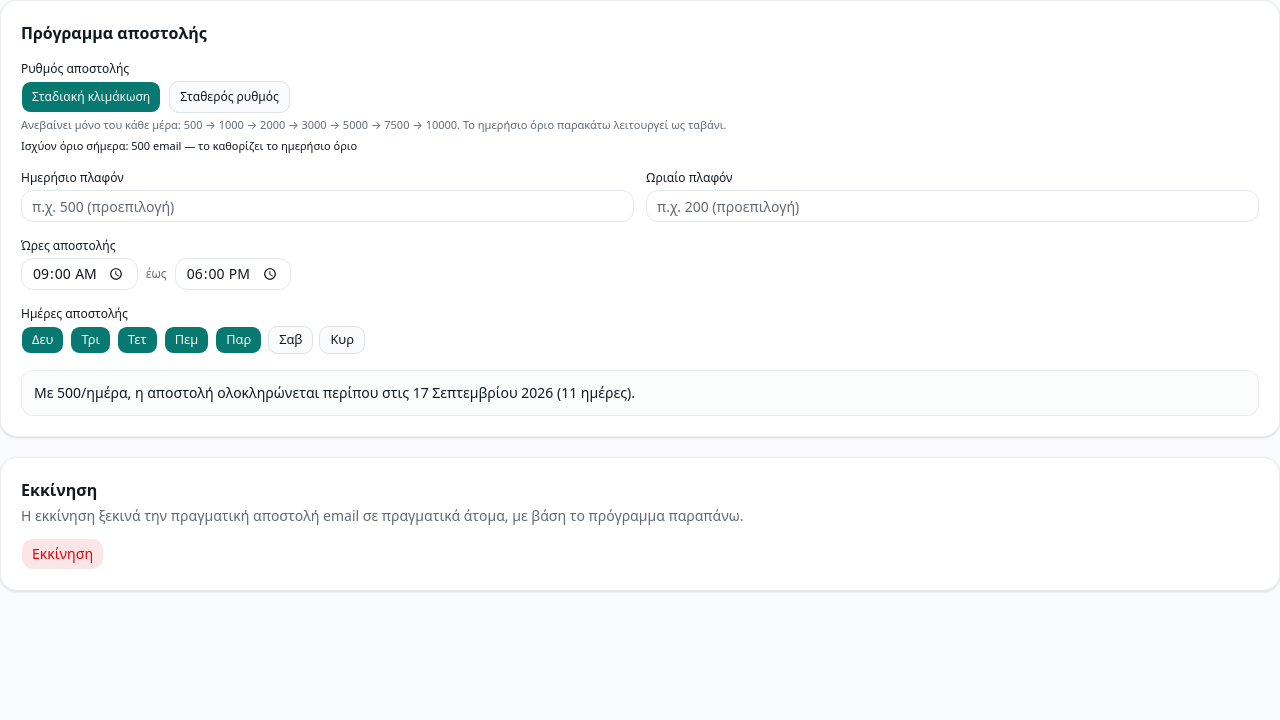
Test: StepSchedule › renders a translated, actionable explanation for the most common refusal (invalid_state)
Click the button "Εκκίνηση": (62, 554) x1=21 y1=538 x2=104 y2=570
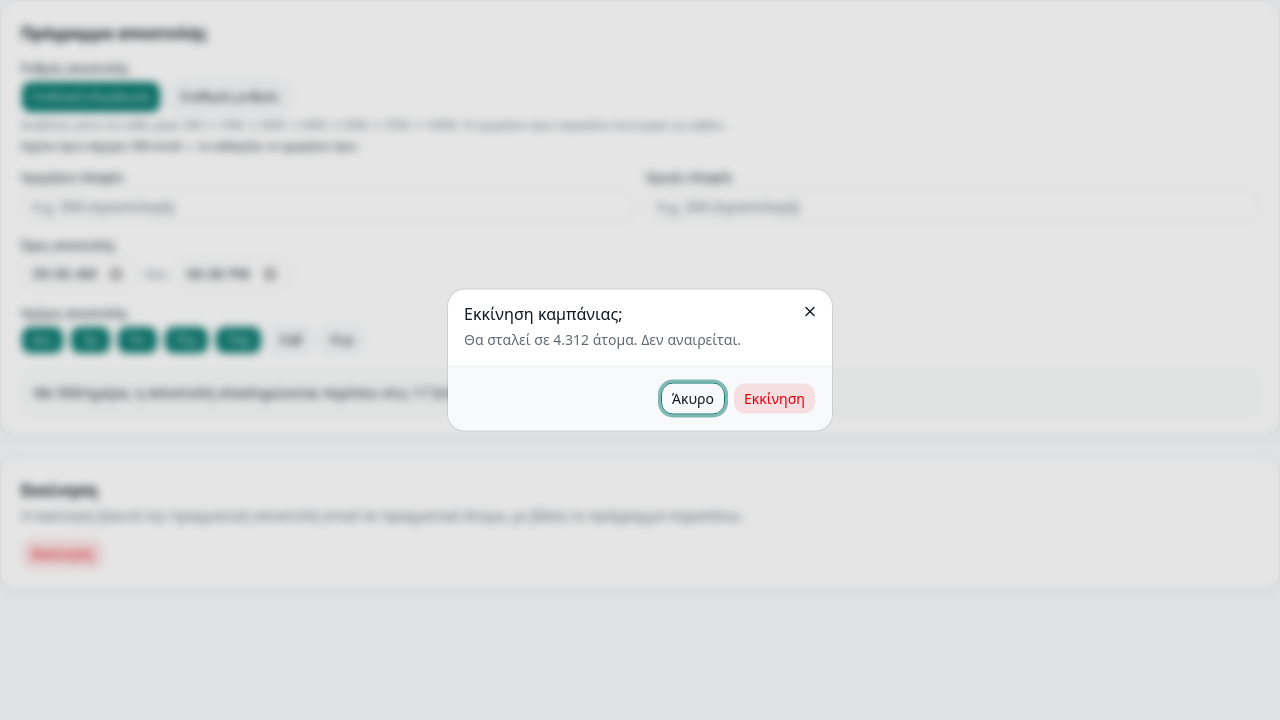
Click the button "Εκκίνηση": (774, 398) x1=733 y1=382 x2=816 y2=414
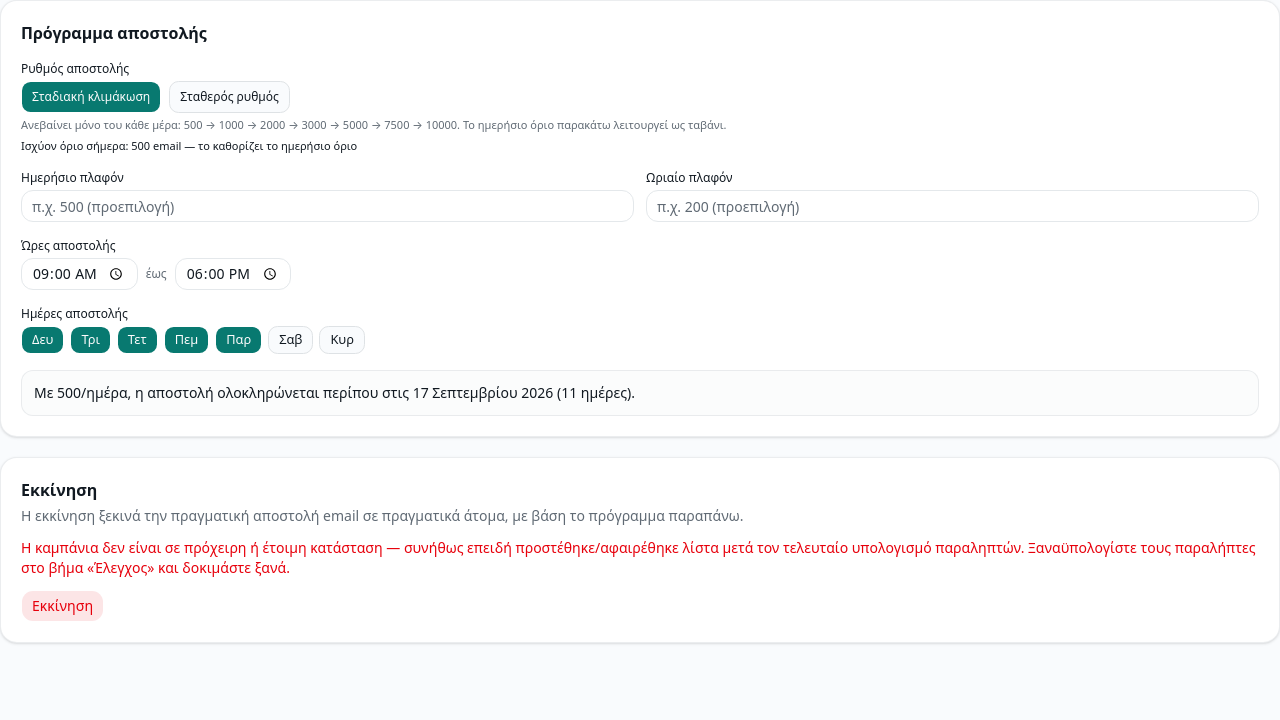
Expected: the text "Ξαναϋπολογίστε τους παραλήπτες στο βήμα «Έλεγχος»" is shown, x1=21 y1=538 x2=1256 y2=577
